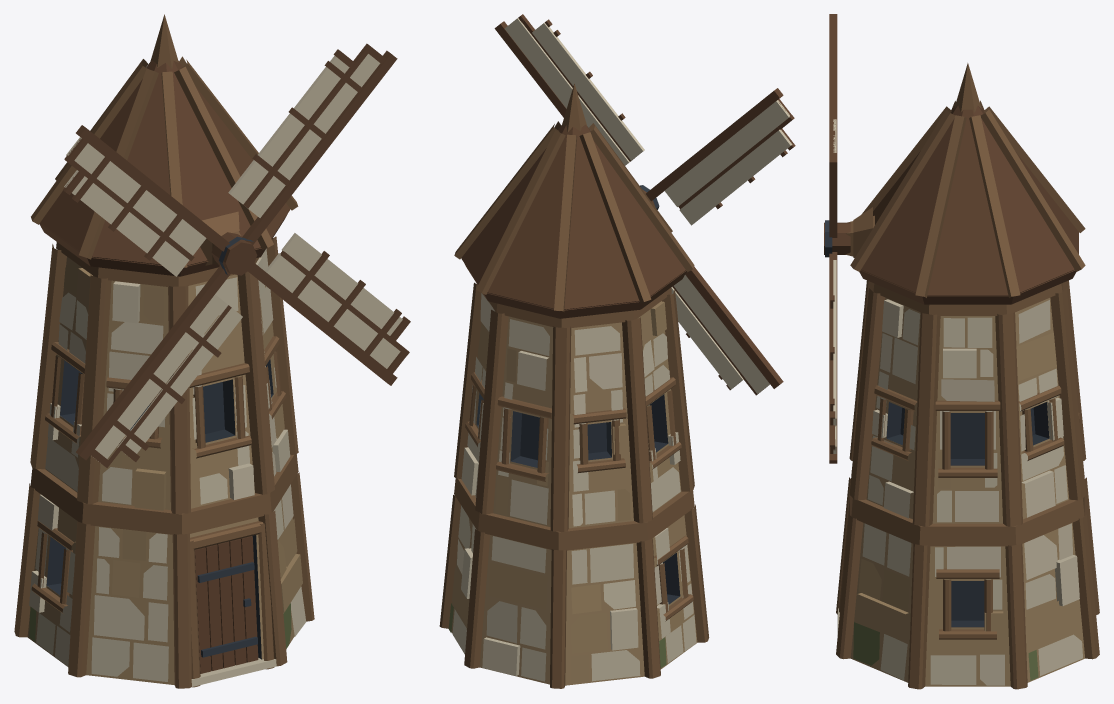
Rendered from windmill-3aad49.glb.
The picture shows the model from 3 angles, left to right: view 1: azimuth 30°, elevation 25°; view 2: azimuth 150°, elevation 25°; view 3: azimuth 270°, elevation 25°; orthographic projection. The views are drawn at different scales.
Visible parts, largest first — view 1: object 1, sails, door; view 2: object 1, sails; view 3: object 1, sails.
Part boxes in pixels (x1,y1,x2,y2): object 1: (14, 14, 314, 688); sails: (63, 43, 410, 467); door: (194, 536, 258, 673); object 1: (439, 83, 709, 688); sails: (494, 14, 795, 395); object 1: (836, 63, 1099, 689); sails: (824, 14, 850, 463).
Bounding box in the file's own units: 5.65 × 9.6 × 4.18.
